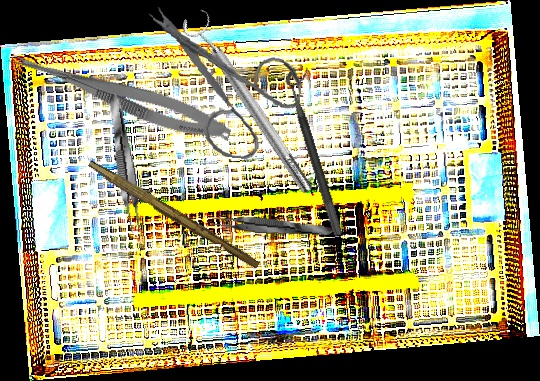Fixation Ring: (178, 6, 321, 201), (282, 64, 357, 237)
Iris Scissors: (134, 6, 308, 164)
Micro Scissor: (2, 44, 236, 149)
Scalpel Handle: (84, 159, 263, 271)
Tissue Forceps: (104, 90, 146, 235), (211, 212, 334, 241)
